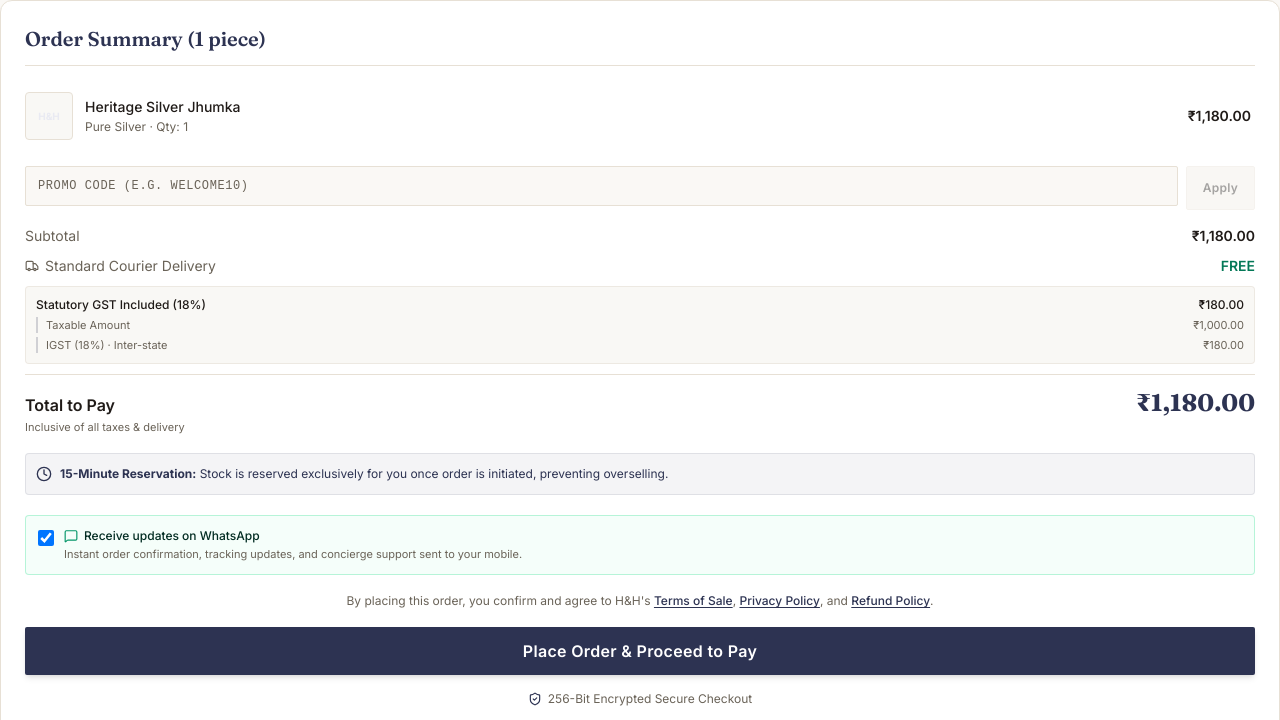
Test: OrderReviewCard Component › allows removing an applied coupon and resets financial totals
Note: Apply coupon
Type "SAVE200" into the field with placeholder "PROMO CODE (e.g. WELCOME10)" at (601, 186), box x1=25 y1=166 x2=1178 y2=206
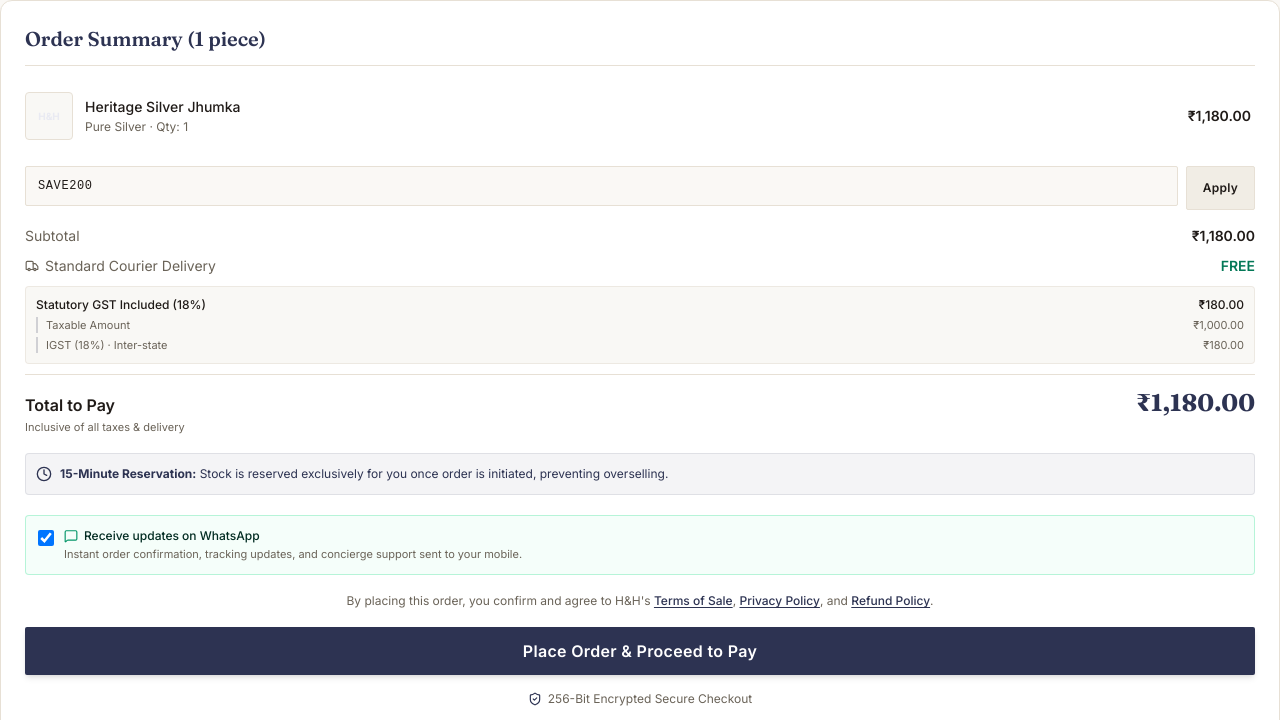
Click the button "Apply" at (1220, 188), box x1=1186 y1=166 x2=1255 y2=210
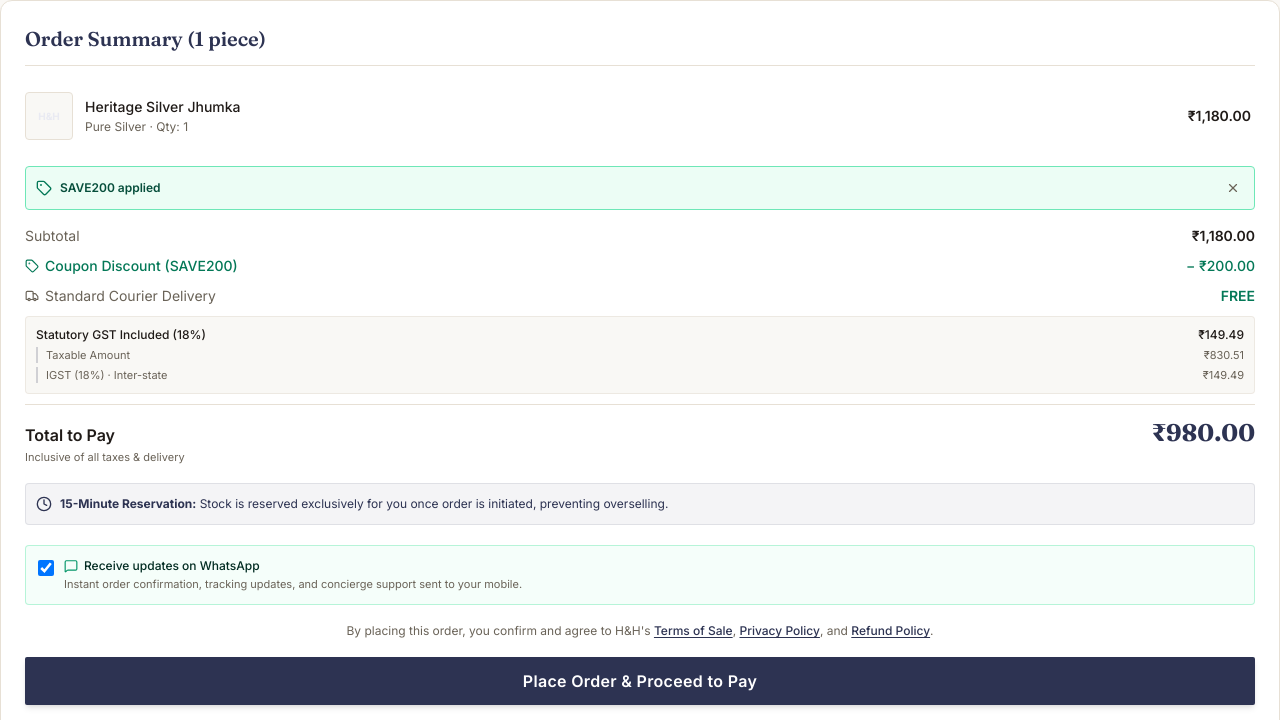
Now the text "SAVE200 applied" is shown, box x1=60 y1=180 x2=161 y2=196
Now the text "Coupon Discount (SAVE200)" is shown, box x1=45 y1=256 x2=238 y2=276
Note: Remove coupon
Click the button named "Remove" at (1233, 188), box x1=1222 y1=177 x2=1244 y2=199
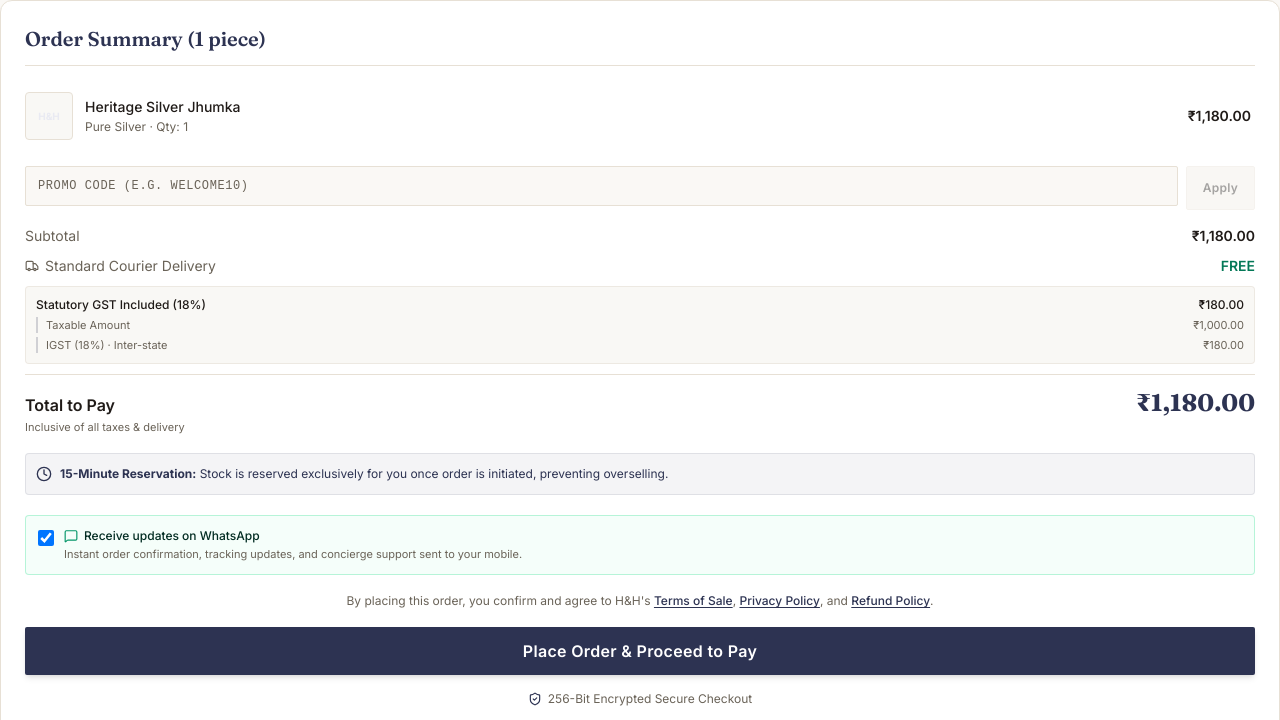
Now the text "SAVE200 applied" is gone
Now the text "Coupon Discount (SAVE200)" is gone
